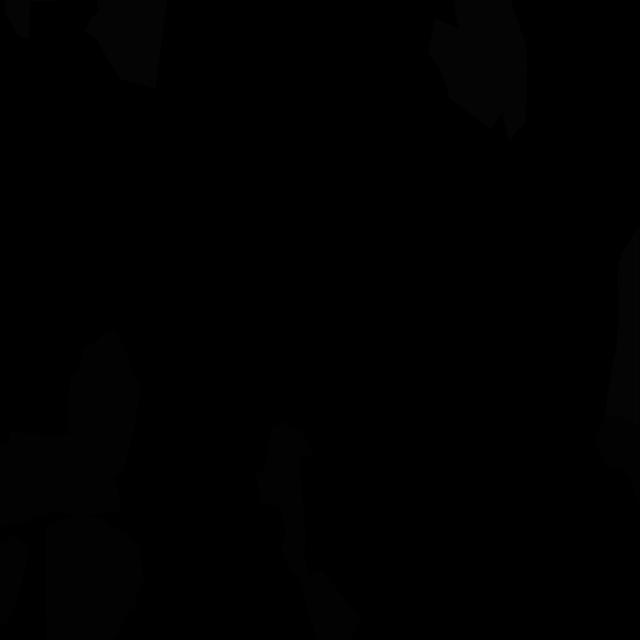cardboard: (0, 330, 142, 528), (256, 421, 362, 640), (44, 516, 144, 640), (594, 416, 640, 505), (0, 534, 32, 627)
soft_plastic: (5, 0, 167, 89), (428, 0, 527, 140), (605, 224, 640, 430)
